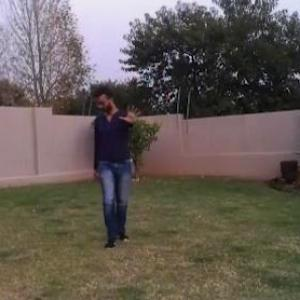follow_hand: (118, 97, 148, 127)
